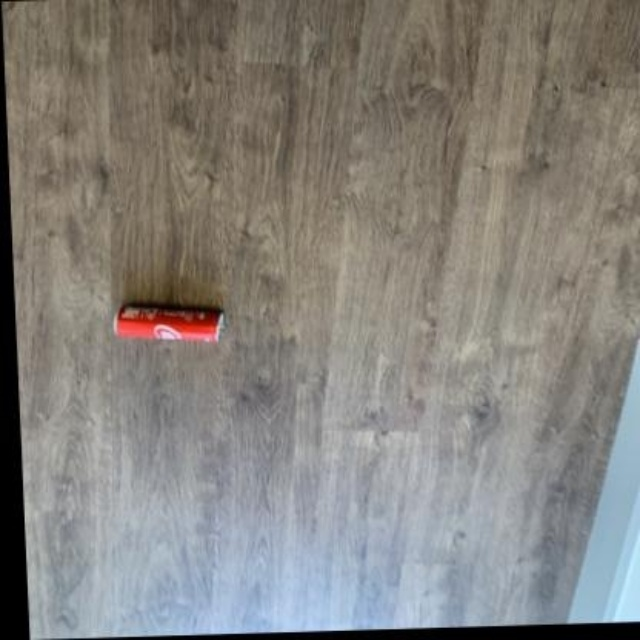trash: (114, 303, 222, 342)
